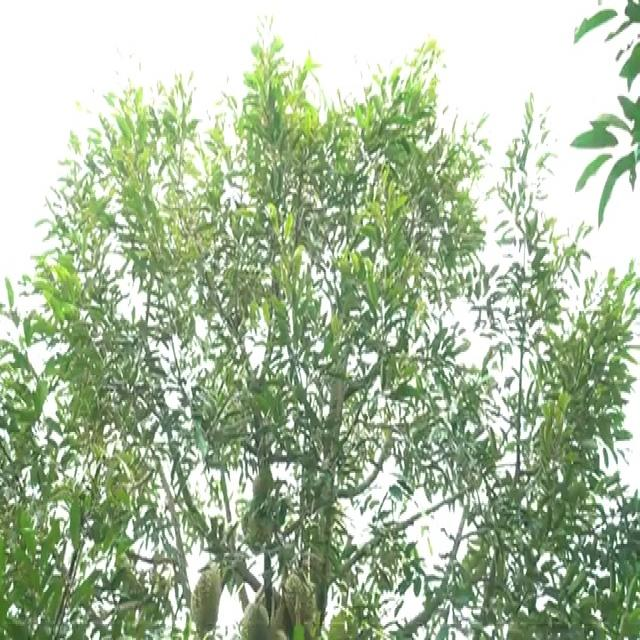durian: (188, 561, 225, 633), (283, 565, 307, 628), (237, 599, 274, 638), (300, 579, 322, 638)
